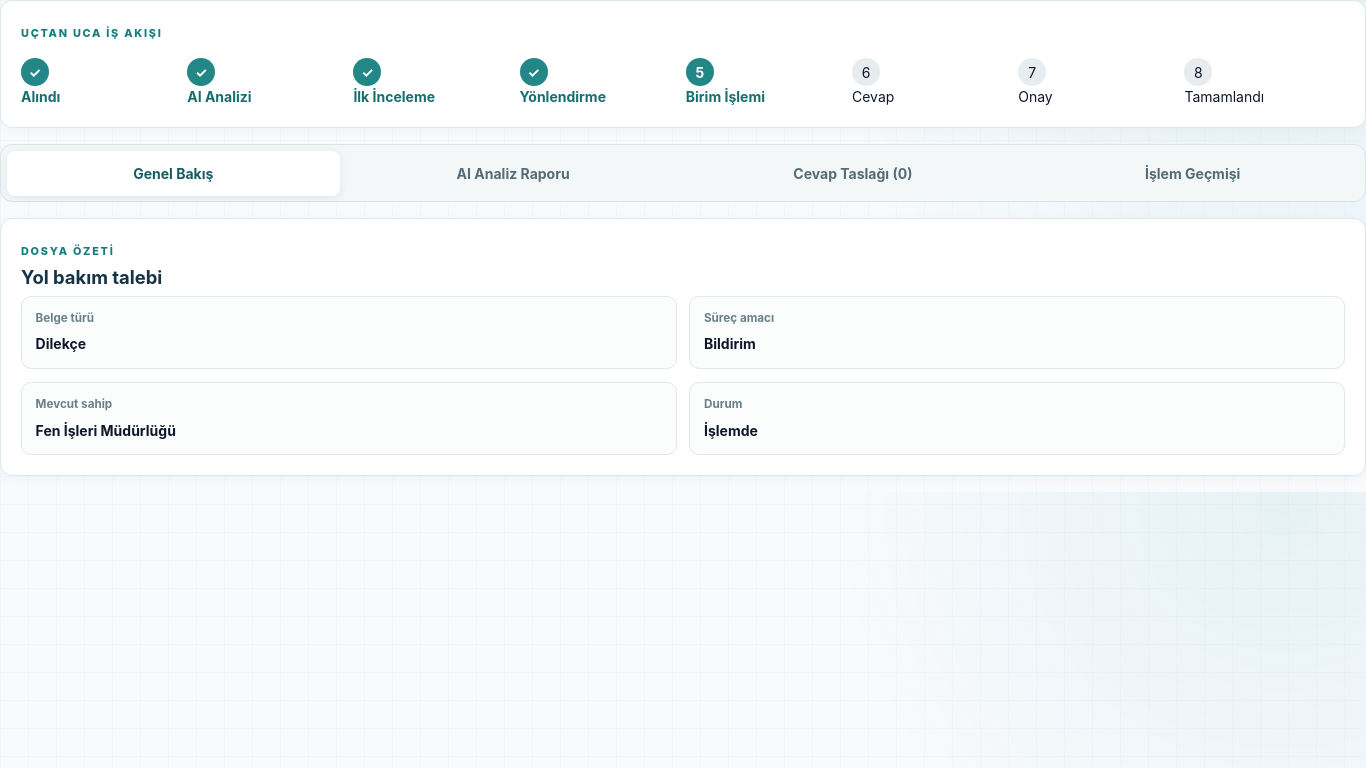
Scenario: Case official writing and report experience › always exposes the reply-draft area and locked flow before DepartmentAction
Click the button "Cevap Taslağı (0)" at (853, 173), box x1=686 y1=151 x2=1020 y2=196
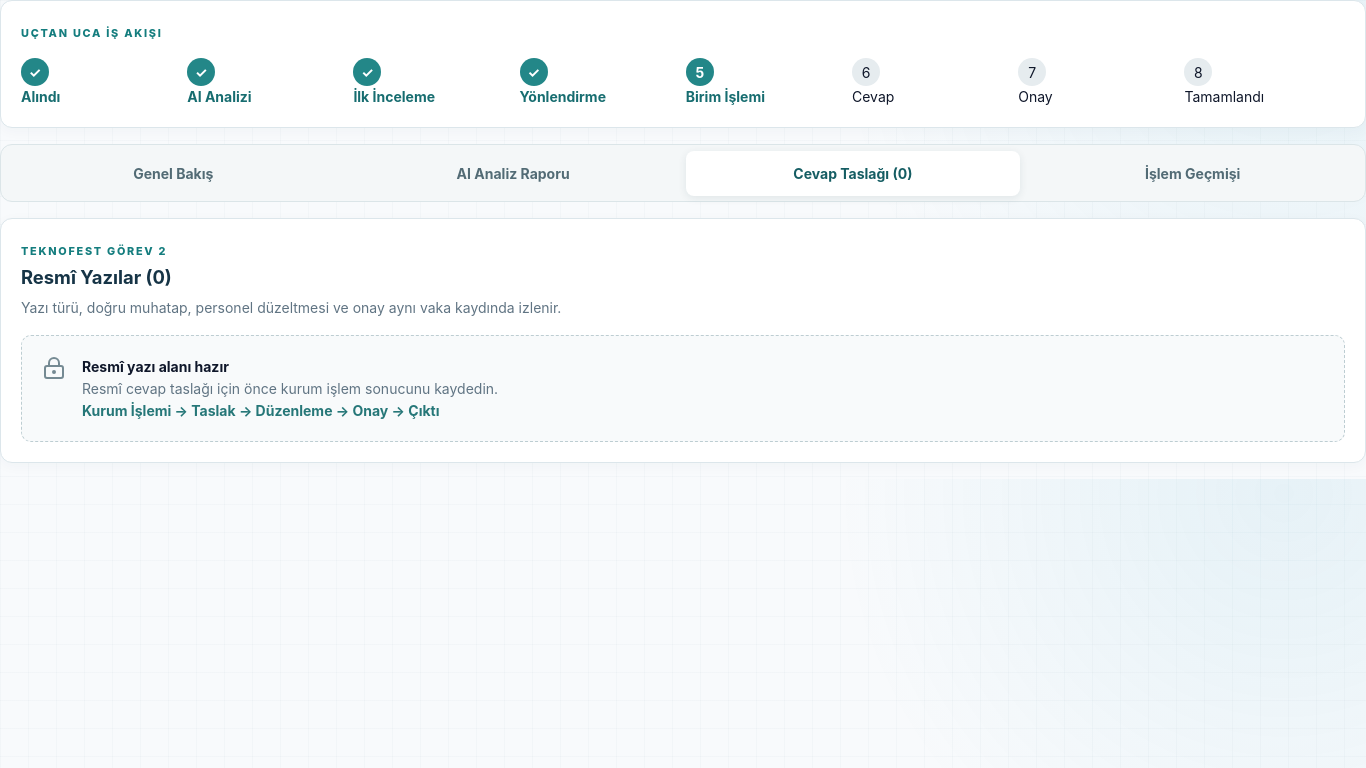
Expected: the text "Resmî yazı alanı hazır" is shown, x1=82 y1=358 x2=229 y2=375
Expected: the text "Kurum İşlemi → Taslak → Düzenleme → Onay → Çıktı" is shown, x1=82 y1=402 x2=440 y2=419
